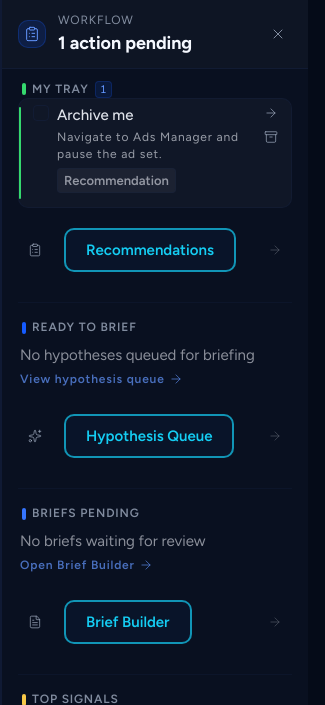
Test case: TaskTray: My Tray section › archiving an item moves it into History with an Archived chip
Click the button named "archive \"archive me\"" at (271, 137), box [261,127,281,147]
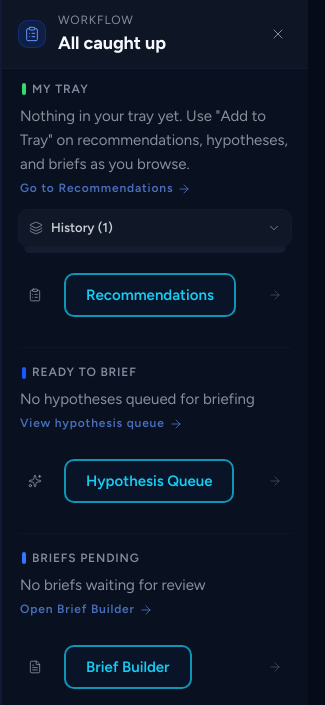
Click the button "History (1)" at (82, 228), box [18,210,292,247]
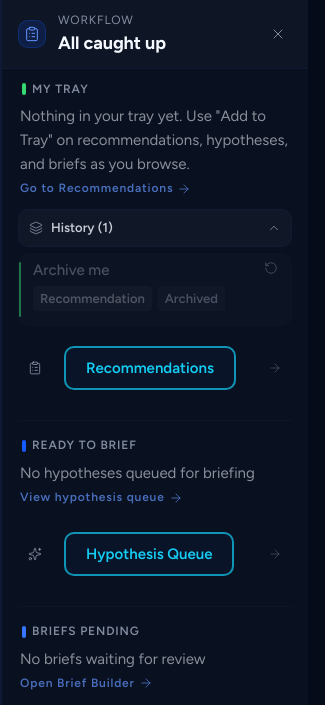
expect the text "Archived" is shown: met, box [158,286,225,312]
